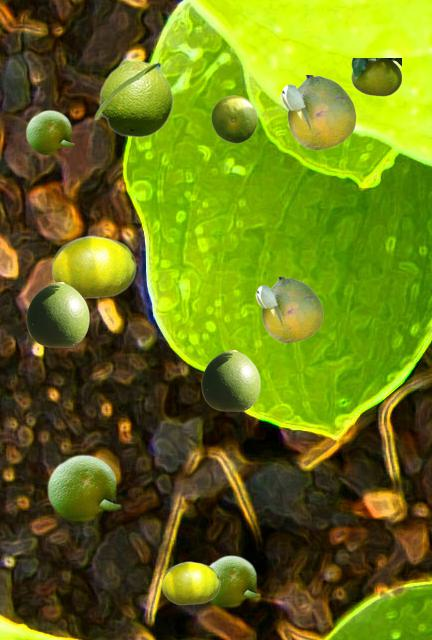dalandan: (93, 58, 173, 137), (280, 75, 355, 149), (51, 235, 135, 298), (46, 453, 121, 522), (255, 277, 322, 342), (26, 282, 88, 346), (201, 350, 259, 410), (209, 554, 260, 607), (161, 561, 219, 604), (25, 109, 74, 154), (211, 95, 256, 142), (351, 58, 400, 95)
